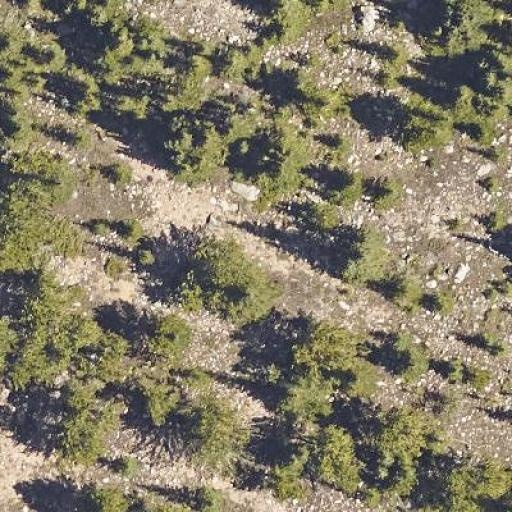tree-top: (166, 234, 280, 323), (12, 291, 98, 384), (1, 172, 72, 271), (38, 391, 126, 467), (280, 418, 366, 495), (283, 316, 377, 386), (365, 404, 440, 481), (178, 390, 250, 470), (427, 453, 512, 512), (247, 120, 316, 190), (157, 118, 236, 178), (334, 224, 400, 284), (429, 2, 501, 55), (398, 90, 456, 150), (140, 313, 195, 366), (383, 330, 437, 381), (164, 48, 211, 105), (131, 376, 178, 431), (263, 0, 319, 41), (218, 36, 264, 82), (272, 373, 318, 417), (92, 478, 146, 512), (328, 168, 366, 213), (24, 38, 70, 74), (382, 268, 422, 308), (298, 85, 338, 124), (96, 37, 134, 73), (369, 174, 402, 214), (112, 88, 152, 121), (464, 118, 499, 152), (195, 479, 230, 512), (105, 156, 137, 192), (75, 0, 112, 29), (1, 103, 31, 138), (70, 69, 98, 96), (382, 41, 411, 66)
